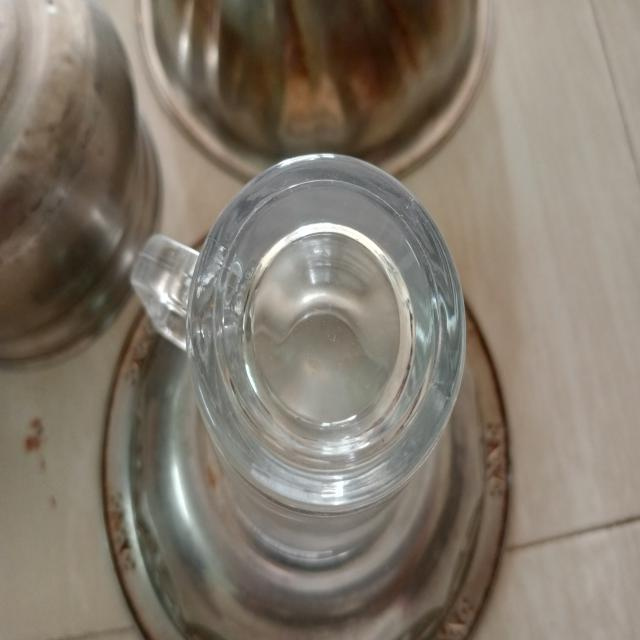glass-VX4N: (131, 154, 467, 588)
